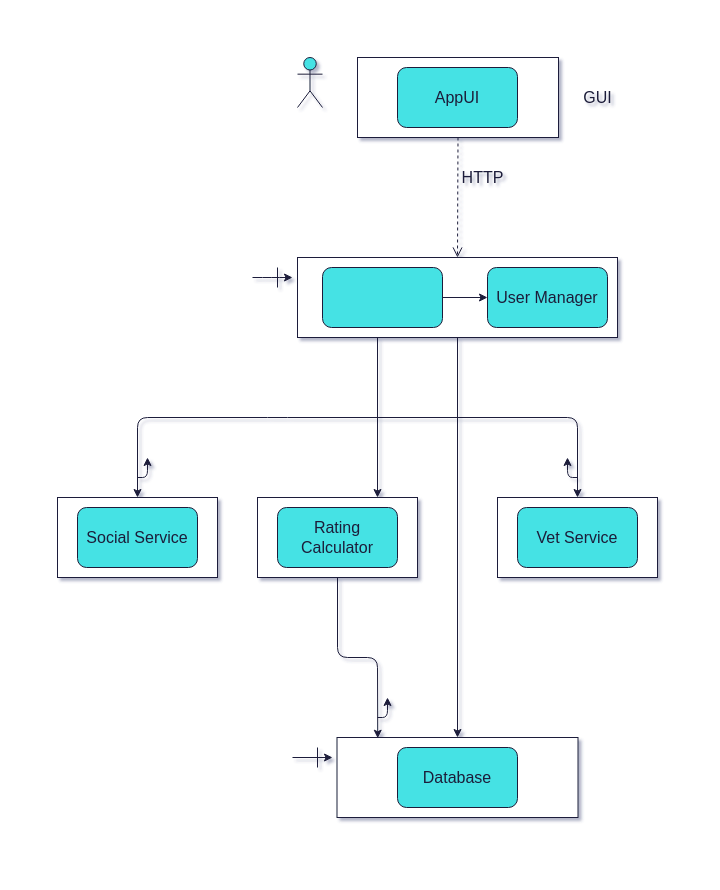
The diagram is 720 pixels wide and 890 high, and some of its shapes have lost their labels. The shapes that lost their labels are listed below. From the top down, each one's centre as x and y in pixels, then its label:
point (309, 82): User
point (382, 297): Vet Manager
